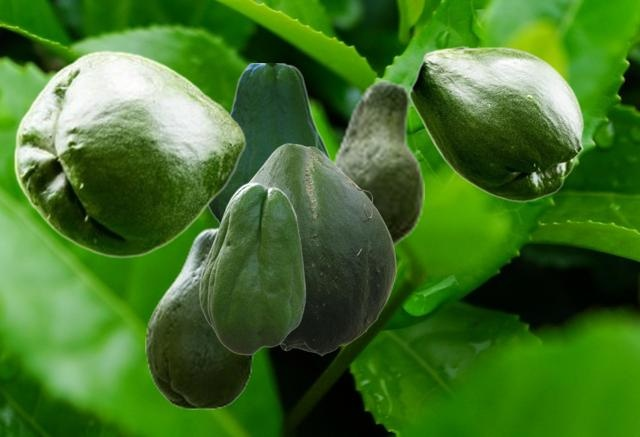sayote: (13, 50, 245, 257), (249, 143, 395, 355), (409, 46, 583, 201), (145, 227, 258, 408), (208, 63, 332, 224), (199, 182, 305, 354), (330, 80, 423, 248)
